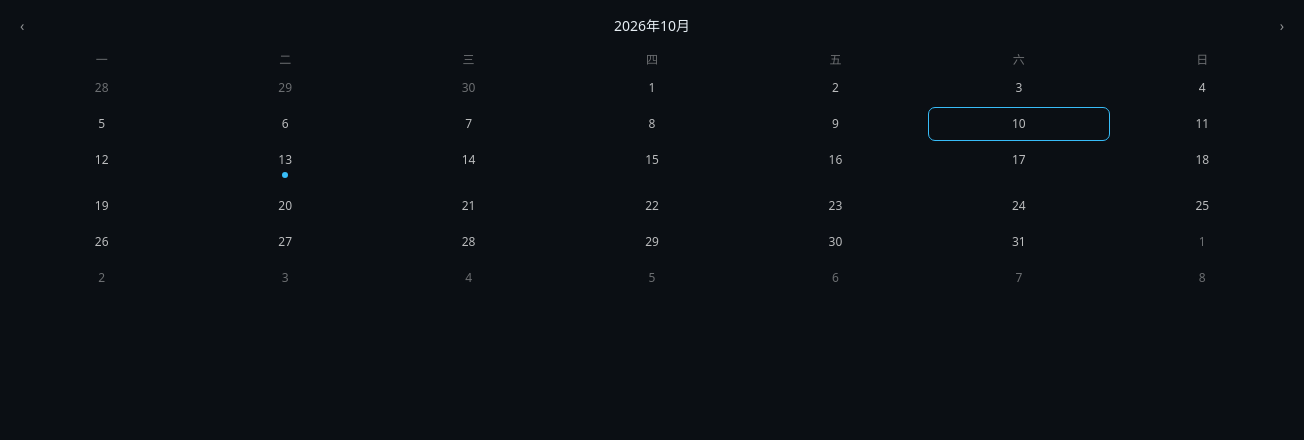
Test: ⭐ 临近提醒：点那一天 ⇒ 显示「还有 N 天」并带分级钩子
This screenshot has width=1304, height=440.
Expected: the text "2026年10月" is shown, [614,16,690,36]
Click the button named "10 月 13 日" at point(285, 165), box [195,144,375,186]
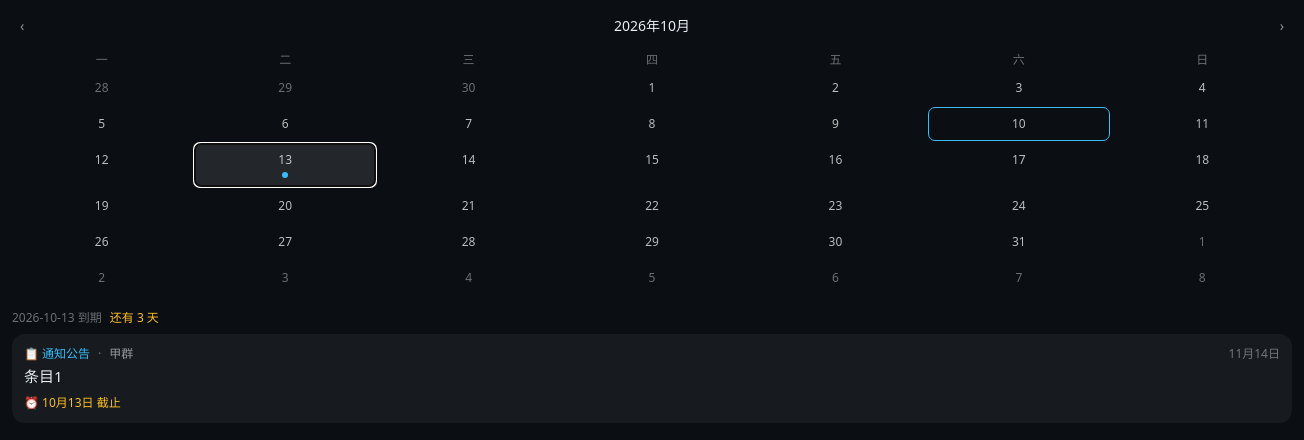
Now the text "还有 3 天" is shown, box [110,309,159,326]
